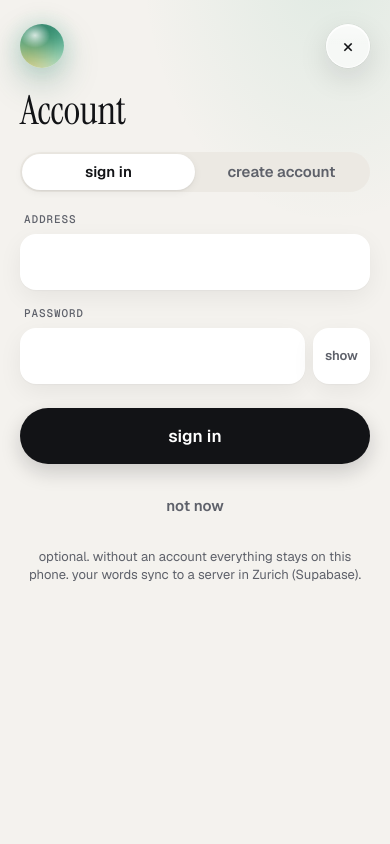
Scenario: Account › existing address on create account switches to sign in, keeps the address
Click the tab "create account" at (282, 172), box [195,154,368,190]
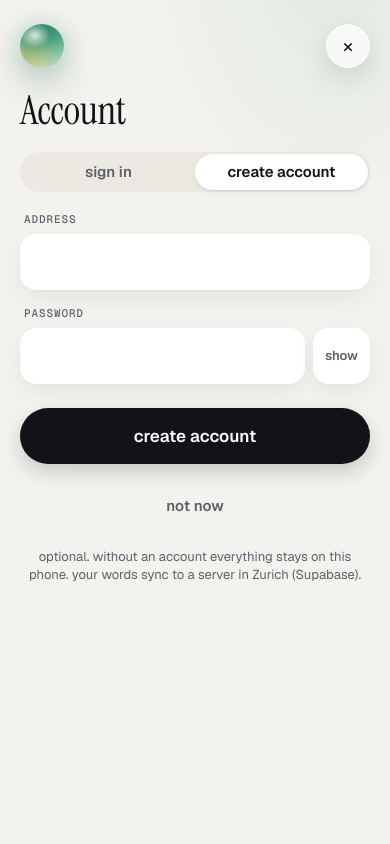
Type "a@b.ch" into the field labelled "address" at (195, 262), box [20,234,370,290]
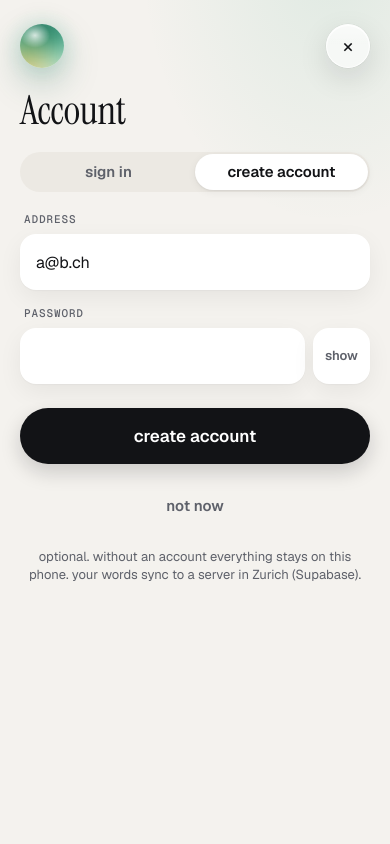
Type "12345678" into the password field labelled "password" at (162, 356), box [20,328,305,384]
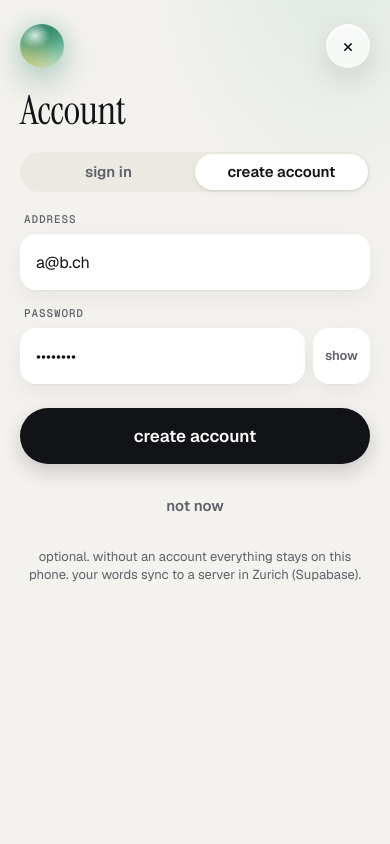
Click the button "create account" at (195, 436), box [20,408,370,464]
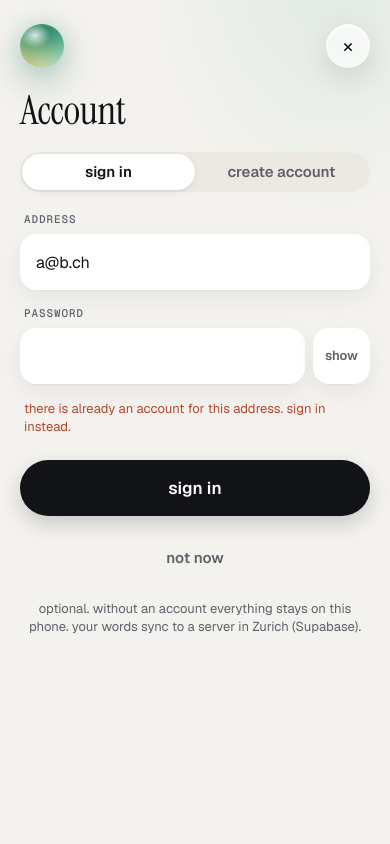
expect the message reads "there is already an account for this address. sign in instead.": met, box [24,400,326,435]
expect the button "sign in" is shown: met, box [20,460,370,516]
expect the password field labelled "password" is empty: met, box [20,328,305,384]
